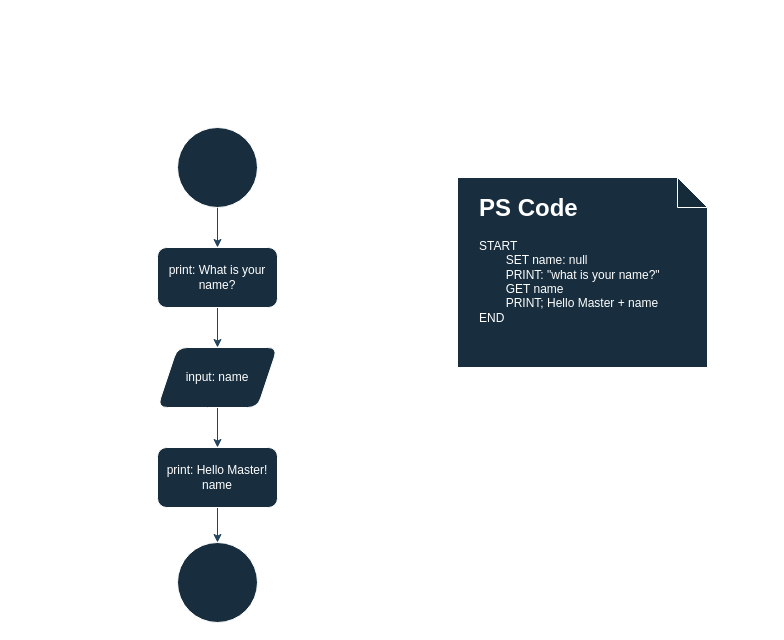
The diagram is 784 pixels wide and 640 high, and some of its shapes have lost their labels. Here are the shapes that lost their labels. From the top down, the centre of each, then its label:
(217,167): start
(217,582): end
